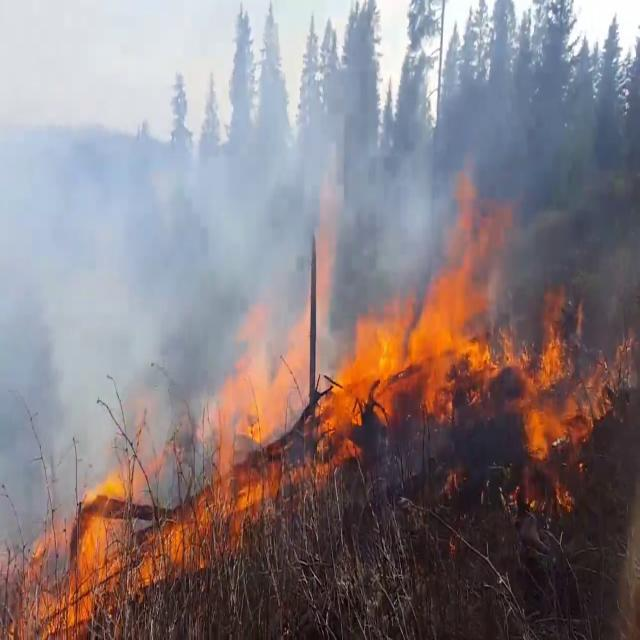Fire: (202, 247, 632, 487), (14, 462, 128, 636)
Smoke: (16, 3, 638, 339), (1, 4, 274, 562)
